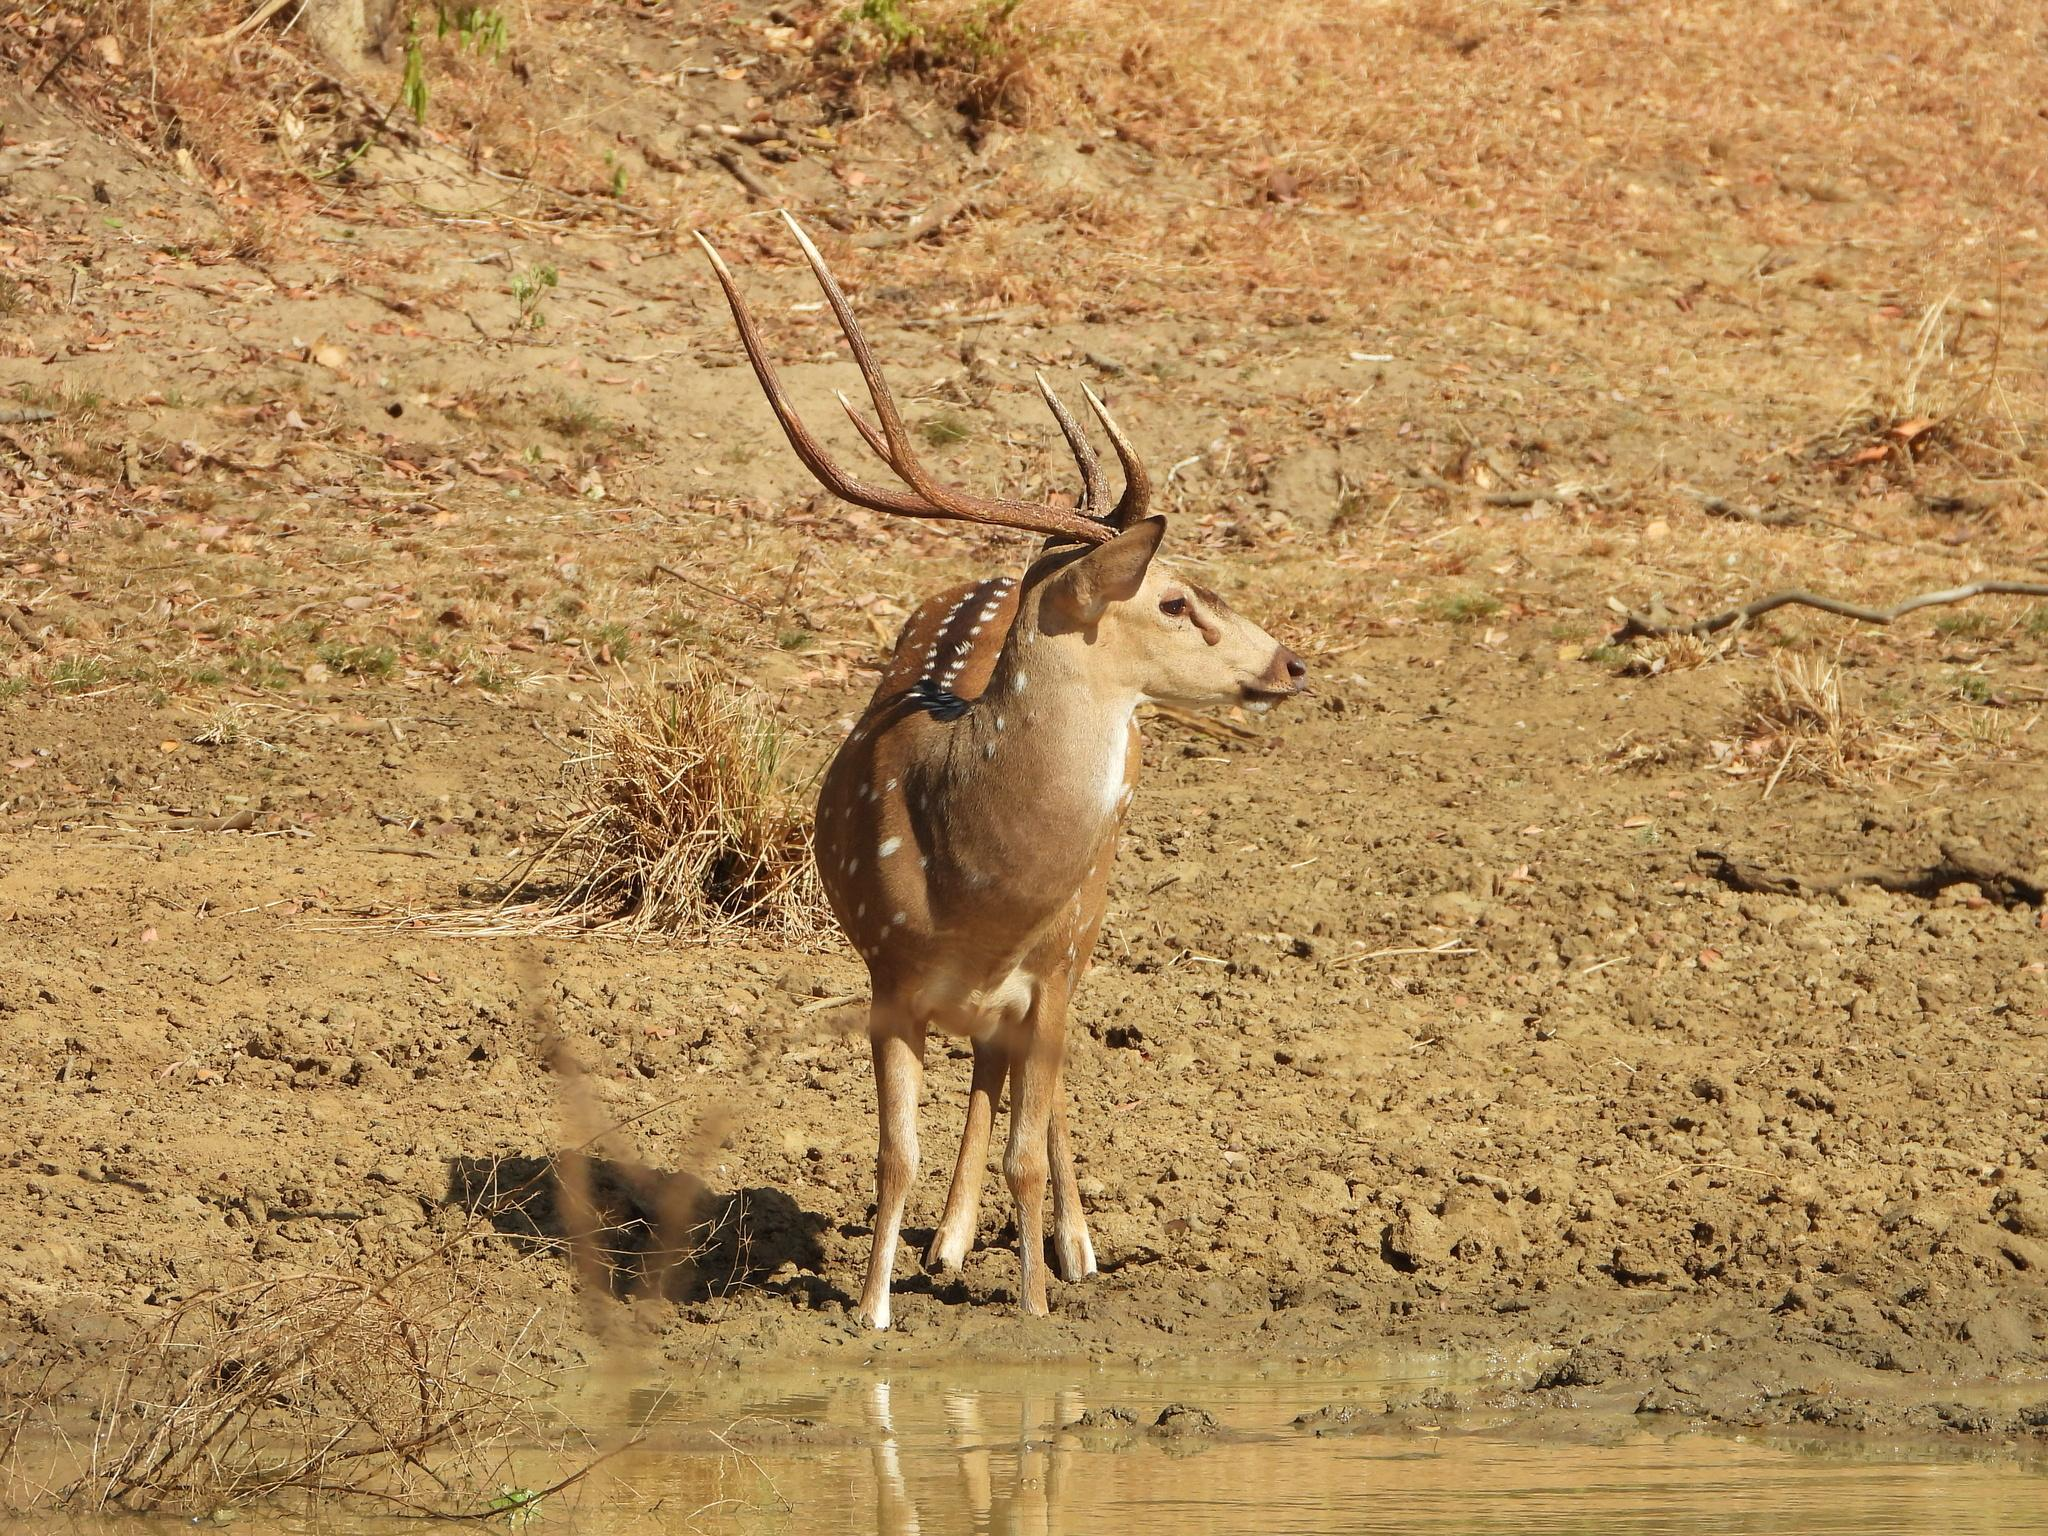Deer: (705, 211, 1305, 1328)
